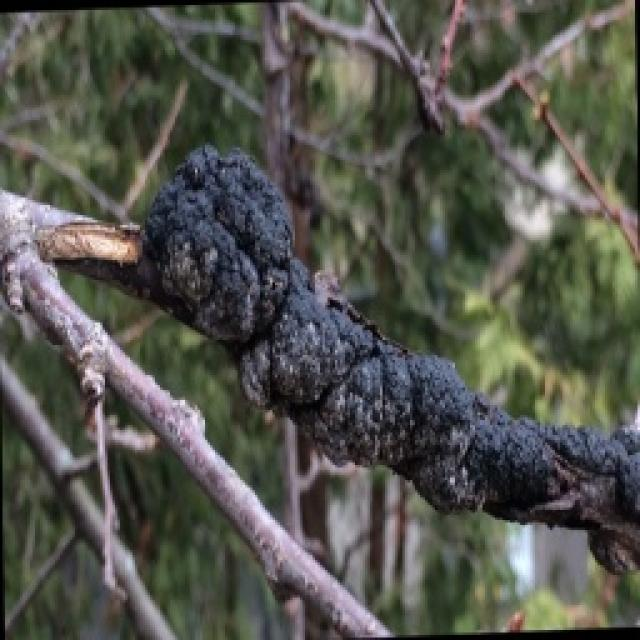Black_knot: (138, 140, 638, 582), (137, 140, 295, 345)
